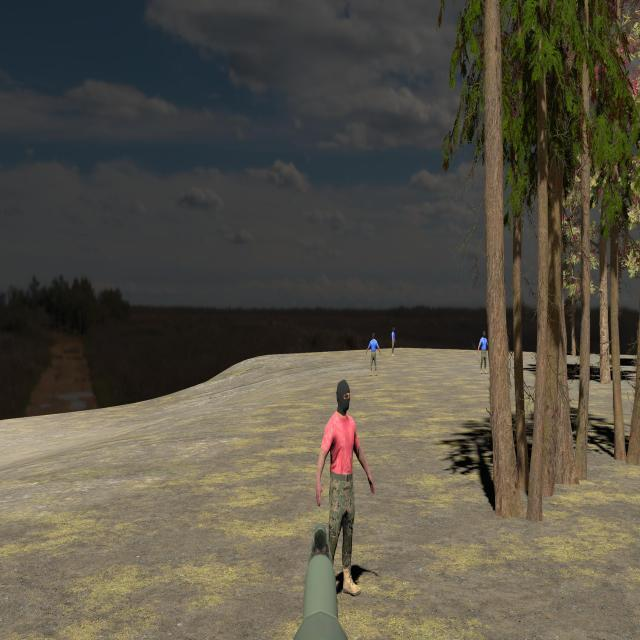Human: (316, 379, 376, 596), (366, 332, 381, 376), (477, 330, 490, 375)
